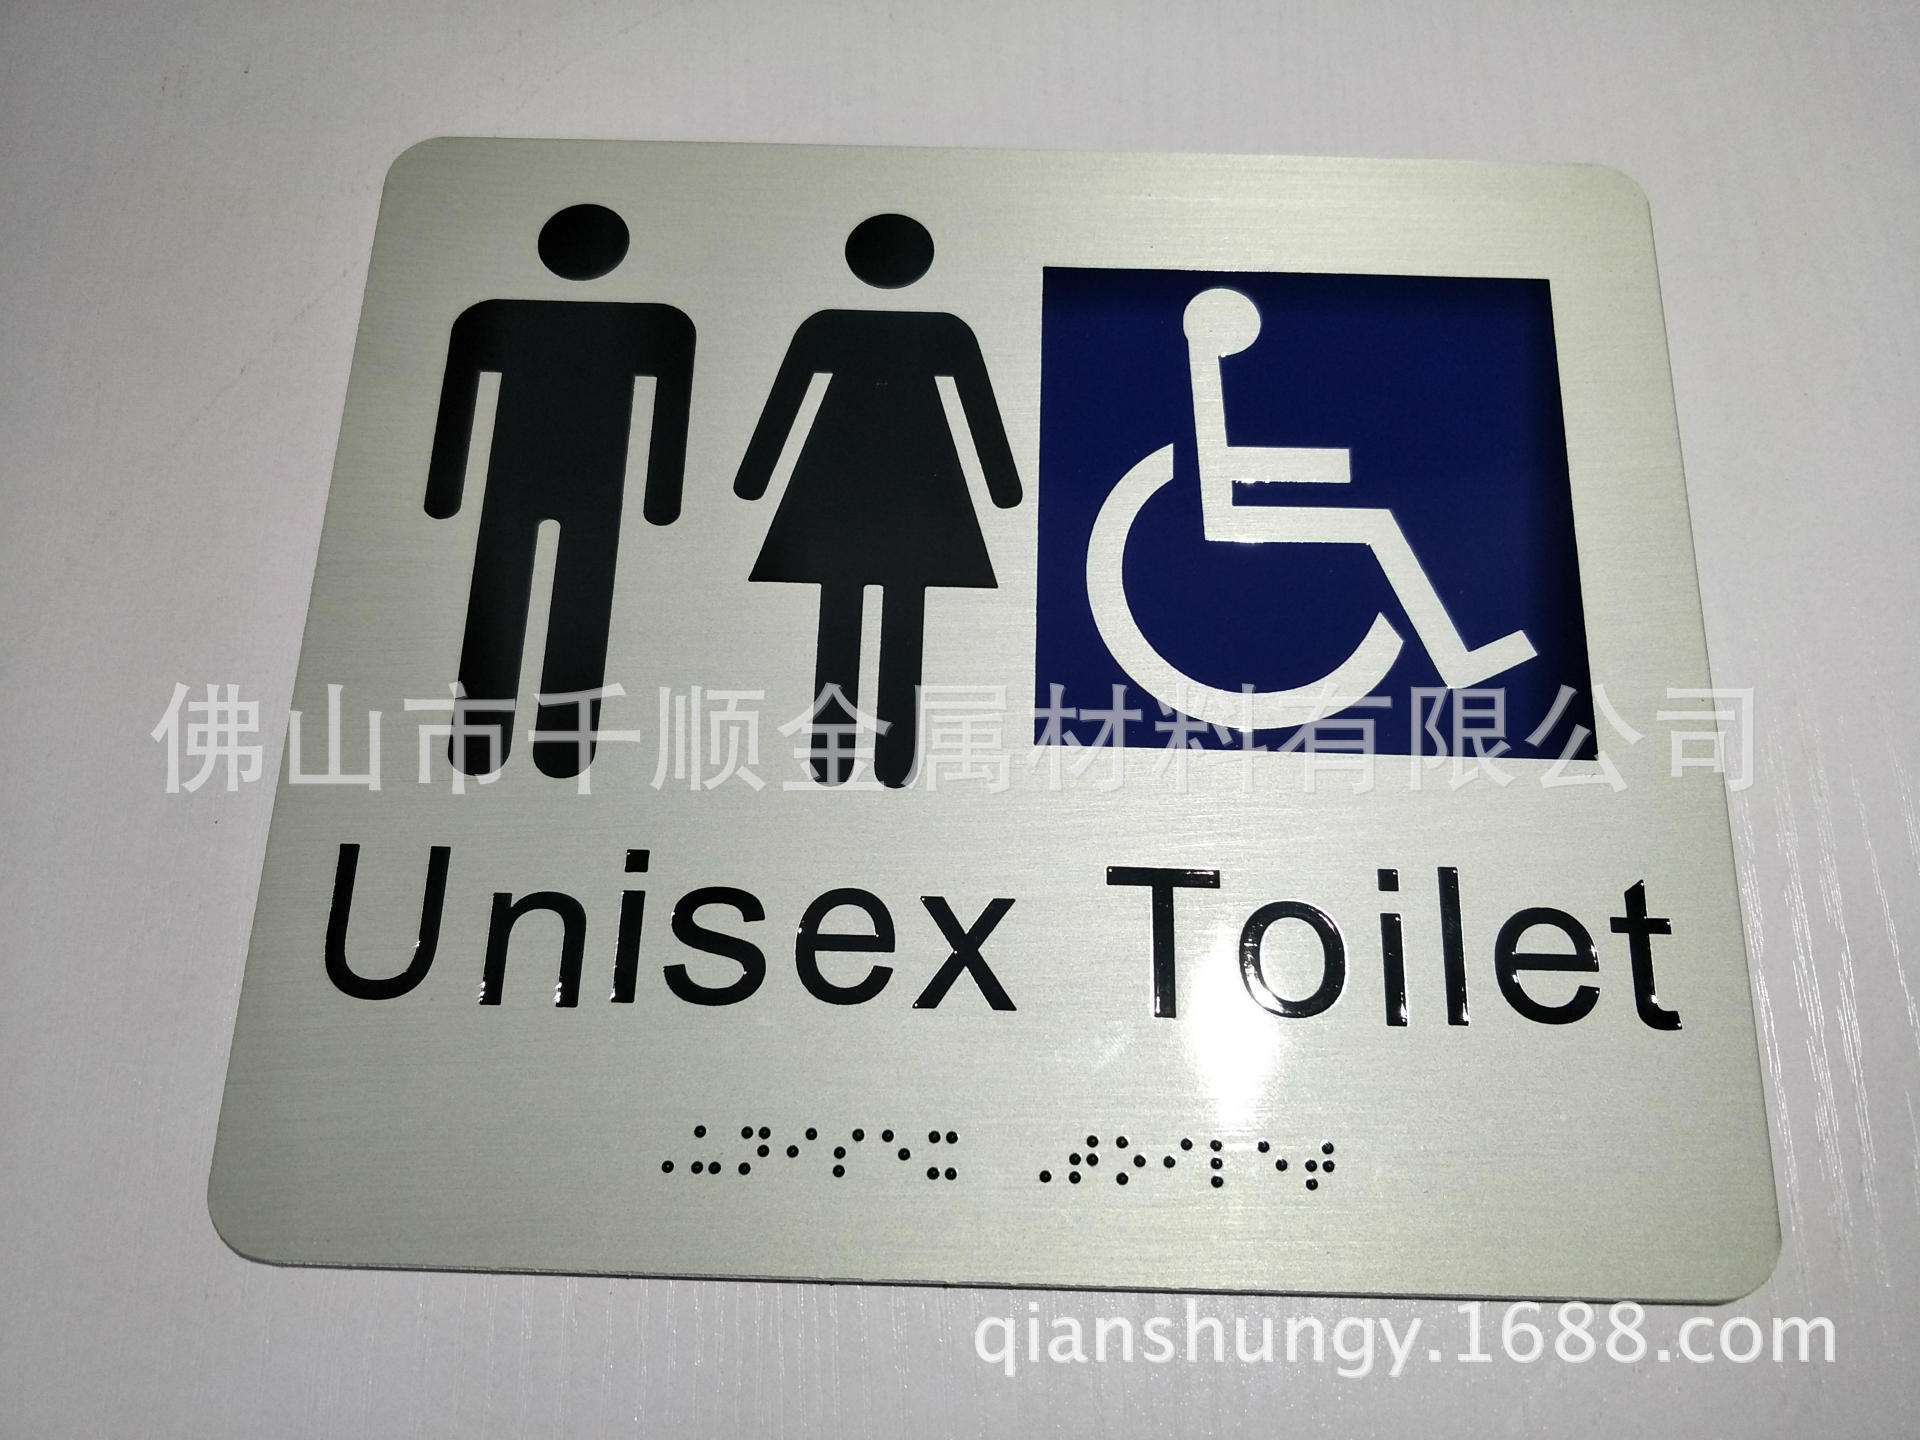Braille: (830, 1125, 868, 1180), (1019, 1130, 1057, 1184), (1064, 1131, 1102, 1186), (736, 1122, 773, 1178), (878, 1125, 915, 1181), (1161, 1134, 1197, 1190), (785, 1124, 822, 1177), (1206, 1136, 1243, 1190), (925, 1125, 960, 1181), (1256, 1137, 1291, 1193), (1114, 1134, 1147, 1190), (1303, 1137, 1336, 1193), (643, 1122, 676, 1175), (691, 1122, 723, 1177)
